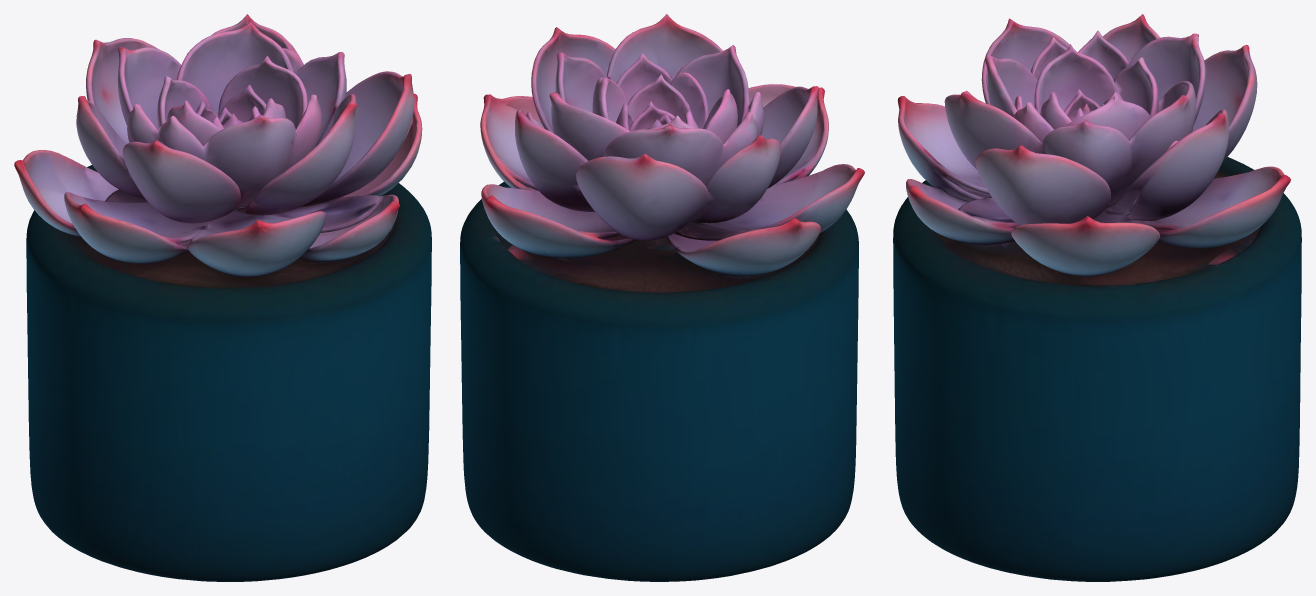
The model's file is succulent.glb.
3 renders of one model, left to right at view 1: azimuth 30°, elevation 25°; view 2: azimuth 150°, elevation 25°; view 3: azimuth 270°, elevation 25°, orthographic. The views are drawn at different scales.
Parts seen in each view (by area): view 1: node_0; view 2: node_0; view 3: node_0.
Part boxes in pixels (box(x1,y1,x2,y2)): node_0: box(14, 14, 431, 581); node_0: box(460, 14, 864, 581); node_0: box(893, 14, 1301, 581).
Bounding box in the file's own units: 0.8155 × 0.9385 × 0.7896.
1 material, 1 textured.
